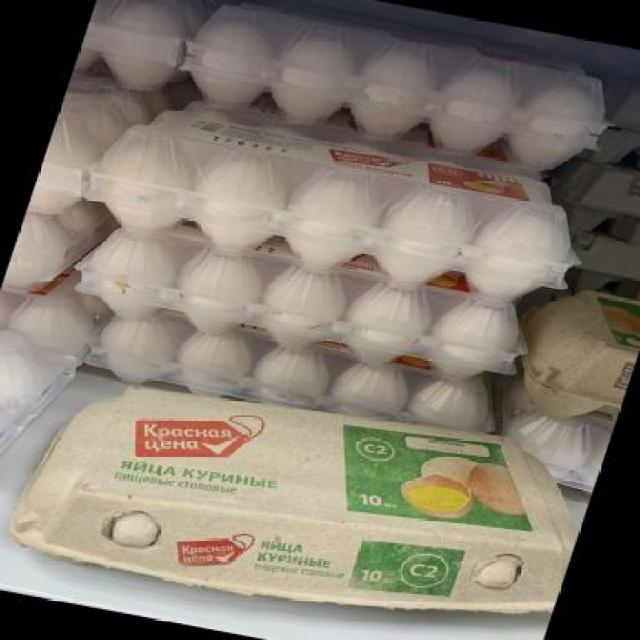egg: (1, 354, 604, 640), (72, 99, 596, 312), (496, 278, 640, 432), (0, 326, 82, 494), (554, 158, 640, 250), (576, 68, 640, 184), (564, 232, 640, 306)
